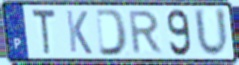9: (166, 8, 193, 58)
D: (94, 8, 130, 58)
K: (64, 9, 94, 57)
R: (128, 9, 165, 56)
T: (30, 7, 57, 57)
U: (192, 6, 231, 60)
